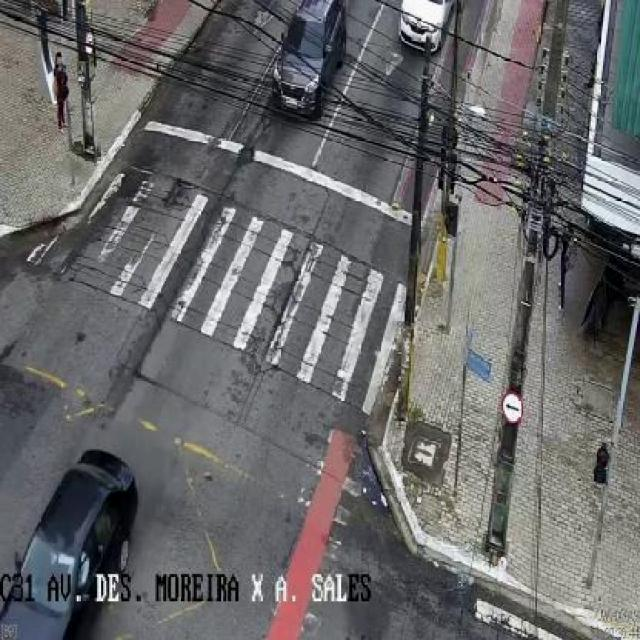Car: (0, 442, 144, 639), (268, 0, 348, 127), (394, 0, 454, 60)
